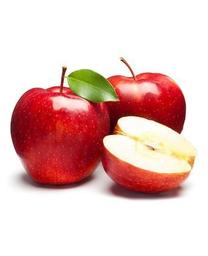apple: (11, 65, 109, 186), (101, 116, 195, 193), (103, 59, 185, 135)
